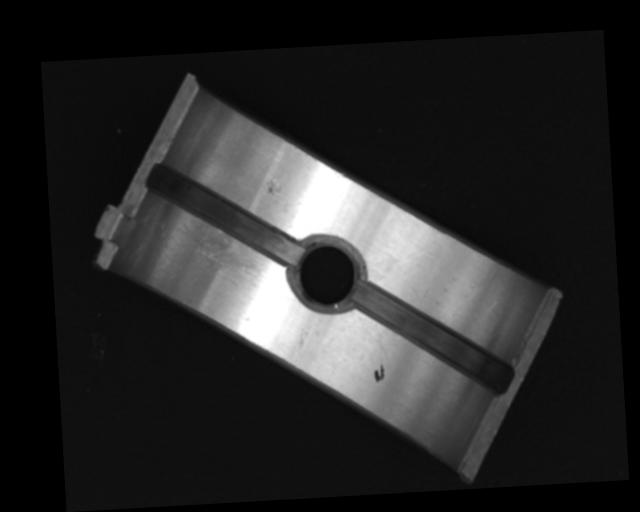blot: (372, 363, 386, 383)
bruise: (264, 177, 283, 196)
gap: (355, 274, 513, 401), (145, 155, 301, 271)
hole: (289, 233, 362, 313)
nick: (288, 324, 314, 366)
scratch: (175, 213, 263, 284)
